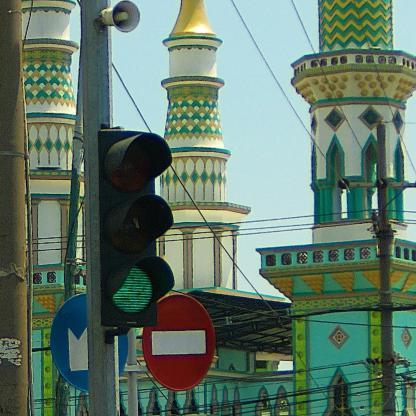green: (101, 132, 176, 326)
